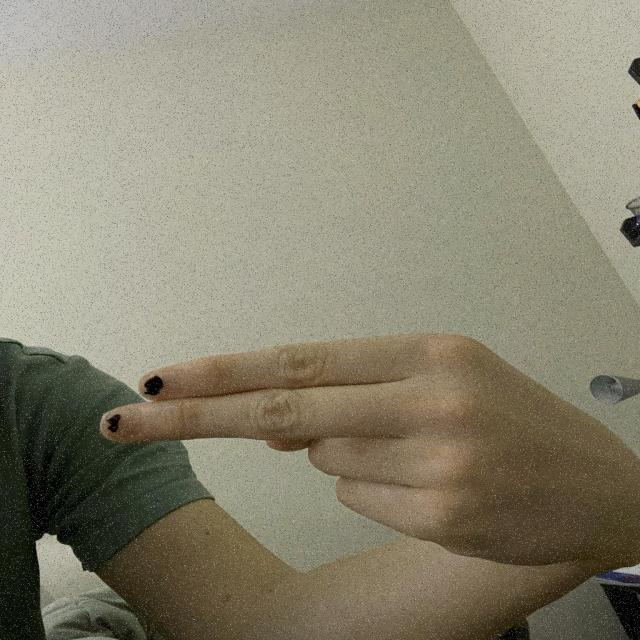H: (96, 326, 640, 566)
